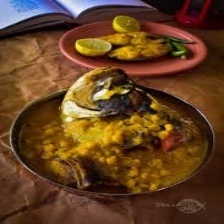dal: (22, 116, 207, 178)
